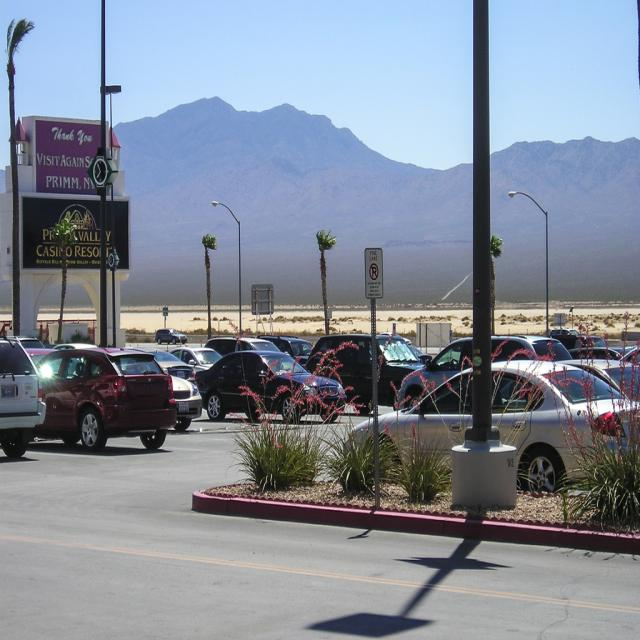car: (154, 327, 184, 345)
